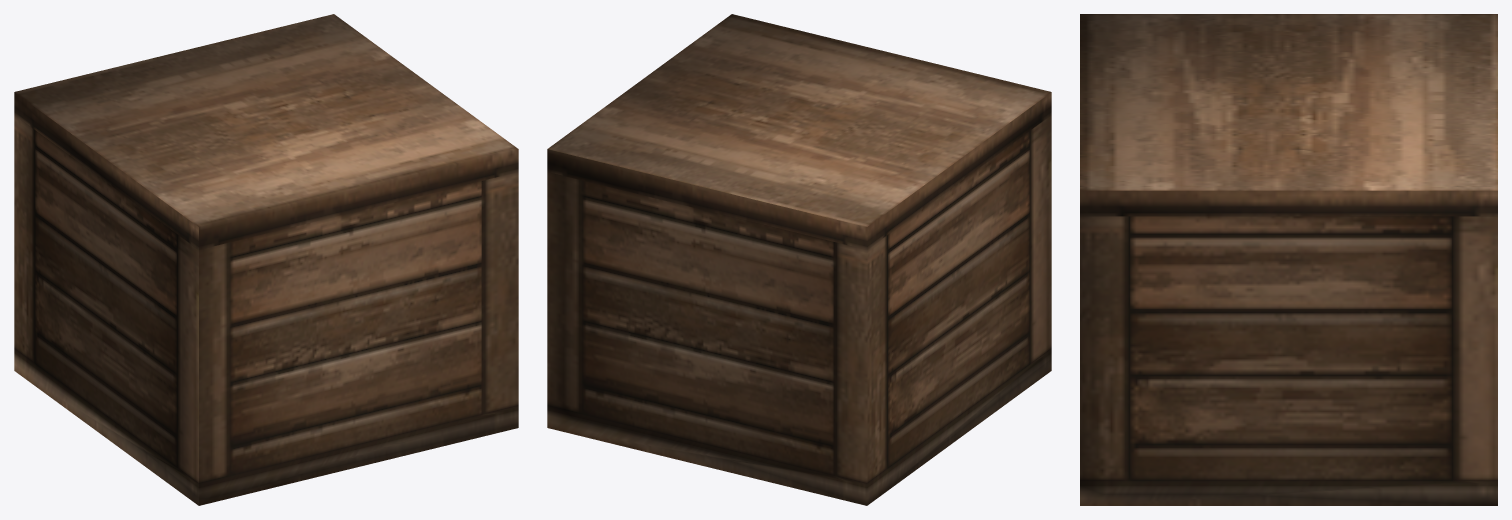
The picture shows the model from 3 angles, left to right: view 1: azimuth 30°, elevation 25°; view 2: azimuth 150°, elevation 25°; view 3: azimuth 270°, elevation 25°; orthographic projection. The views are drawn at different scales.
Visible parts, largest first — view 1: Obj_box; view 2: Obj_box; view 3: Obj_box.
Part boxes in pixels (x1=…): Obj_box: x1=14, y1=14, x2=518, y2=505; Obj_box: x1=547, y1=14, x2=1051, y2=505; Obj_box: x1=1080, y1=14, x2=1497, y2=505.
Size of the model in its own units: 60 by 50 by 60.
Materials: 1 (1 with a texture image).
